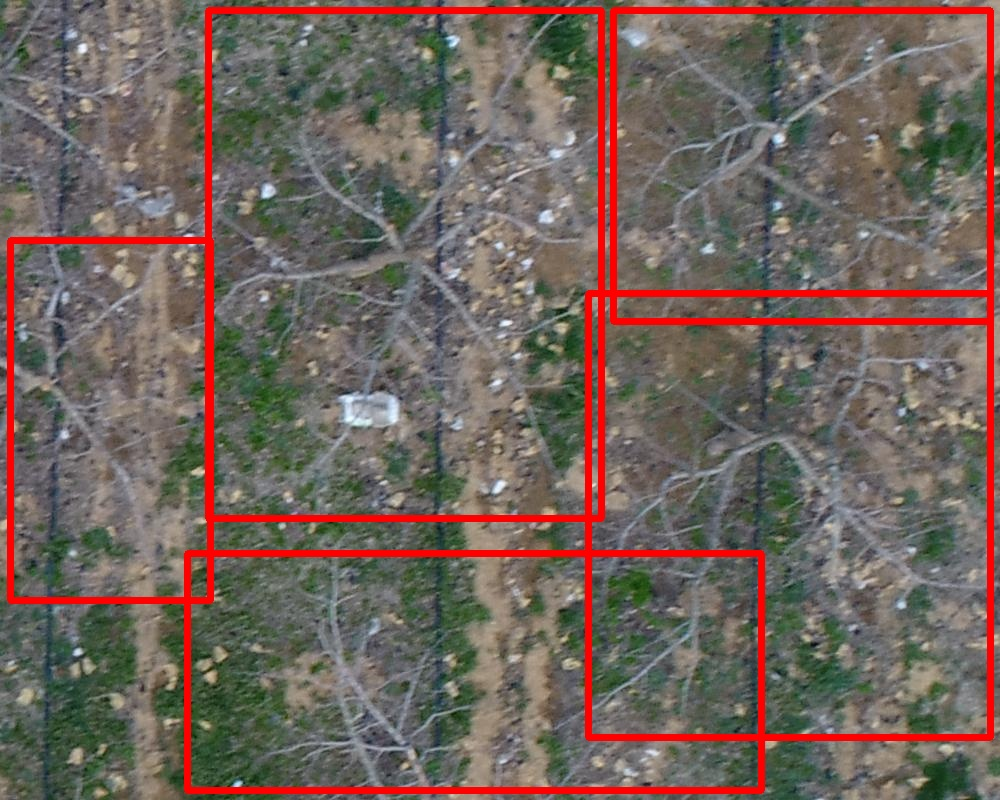apple: (208, 10, 601, 518), (588, 293, 990, 737), (187, 553, 761, 790), (613, 10, 990, 321), (10, 240, 210, 600)
